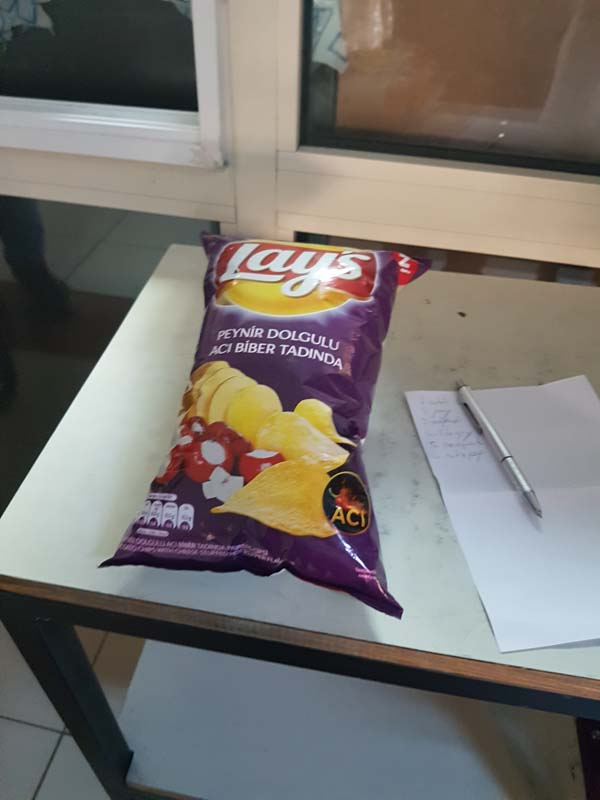layspeynirsoslu: (114, 230, 441, 617)
